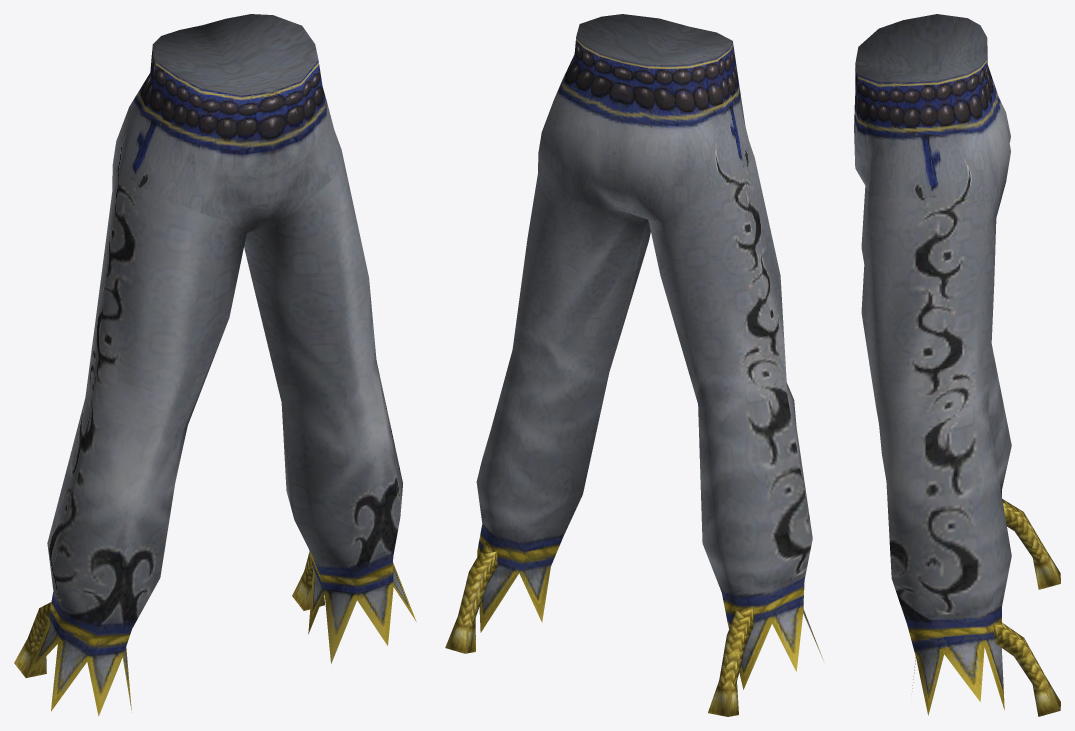
The model's file is clothes_04_la.glb.
The picture shows the model from 3 angles, left to right: view 1: azimuth 30°, elevation 25°; view 2: azimuth 150°, elevation 25°; view 3: azimuth 270°, elevation 25°; orthographic projection. The views are drawn at different scales.
Visible parts, largest first — view 1: clothes_04_la; view 2: clothes_04_la; view 3: clothes_04_la.
Boxes of the visible parts, bbox=[...] form: clothes_04_la: bbox=[14, 14, 416, 716]; clothes_04_la: bbox=[445, 14, 824, 716]; clothes_04_la: bbox=[854, 14, 1060, 716].
Bounding box in the file's own units: 0.6577 × 1.1 × 0.3418.
1 material, 1 textured.
